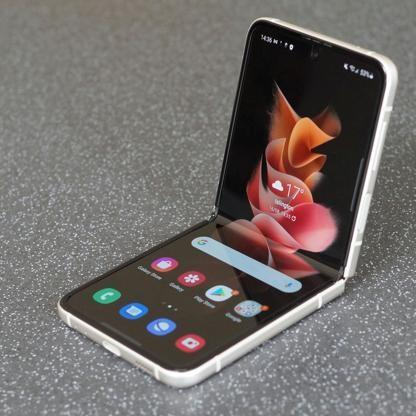not trash: (57, 16, 394, 389)
